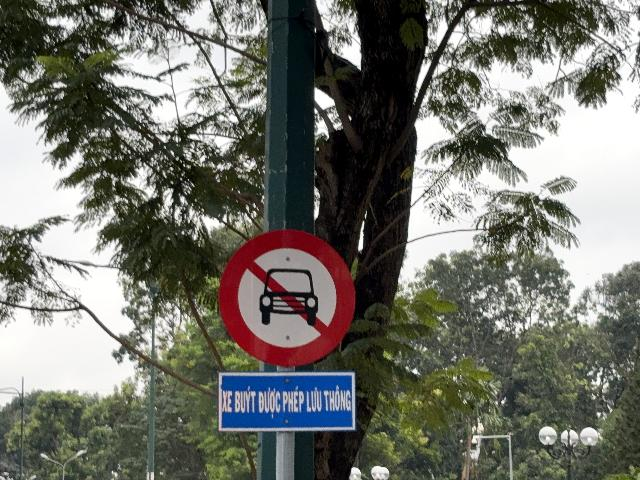cam-o-to: (218, 229, 356, 367)
